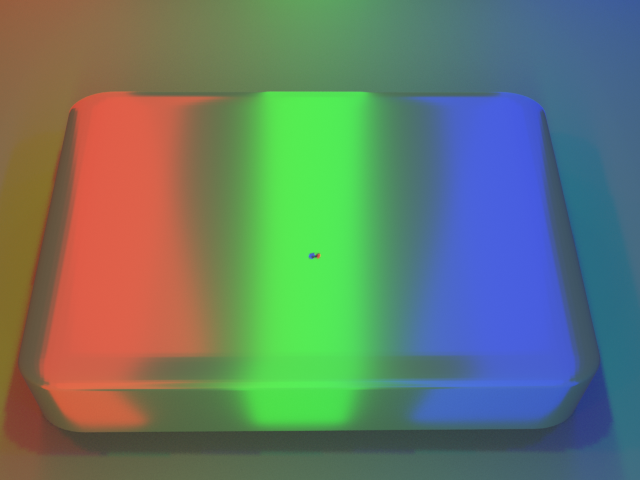dent: (299, 240, 333, 274)
